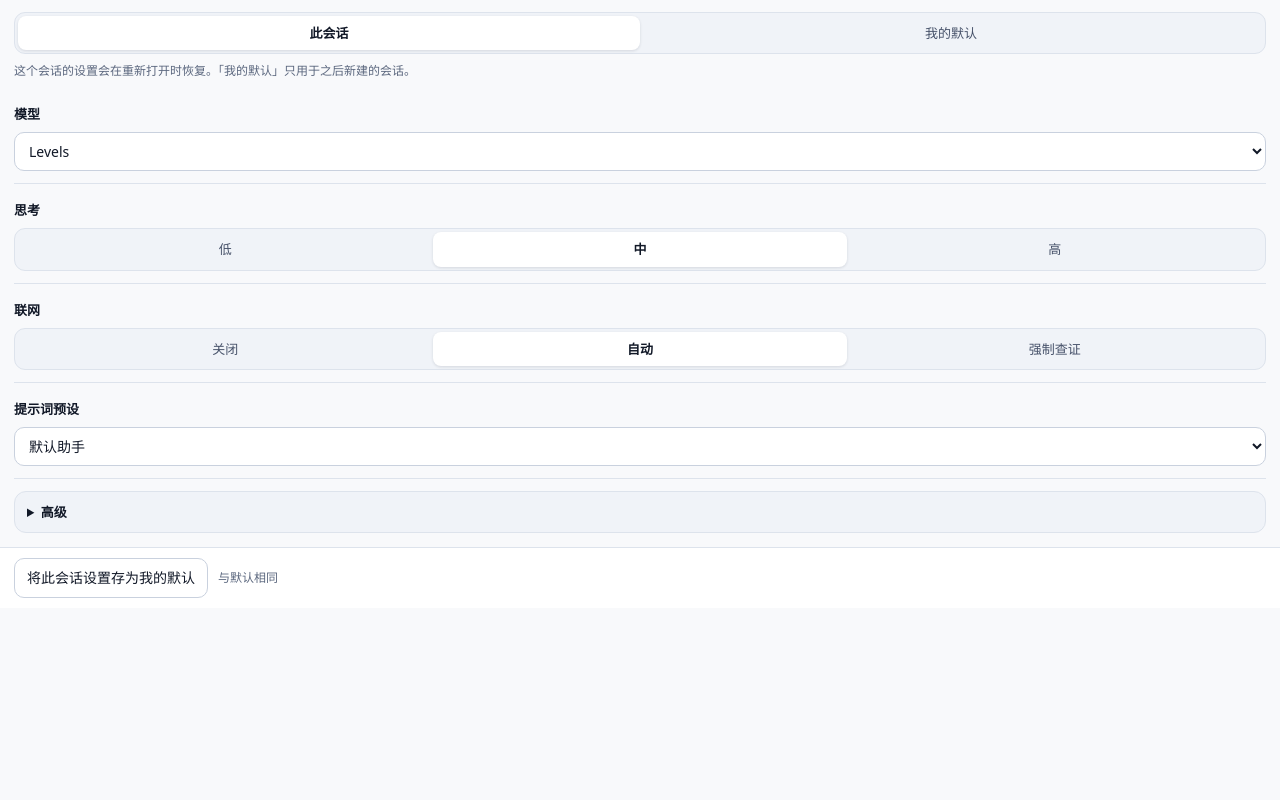
SettingsPanel › offers a custom prompt only for a conversation, and only when that preset is chosen
The width and height of the screenshot is (1280, 800).
Select "自定义" in the dropdown named "提示词预设" at (640, 446), box left=14, top=427, right=1266, bottom=466
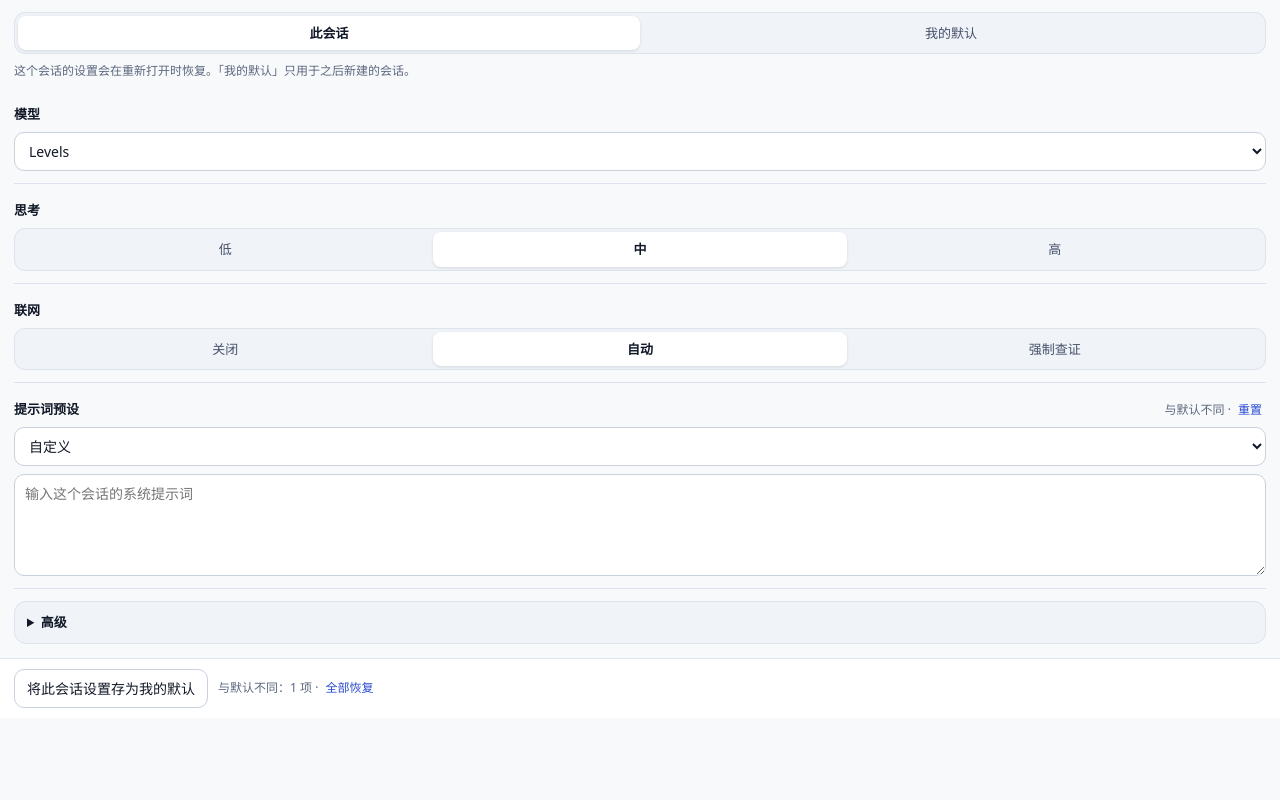
Result: the text box named "自定义提示词" is shown at left=14, top=474, right=1266, bottom=576
